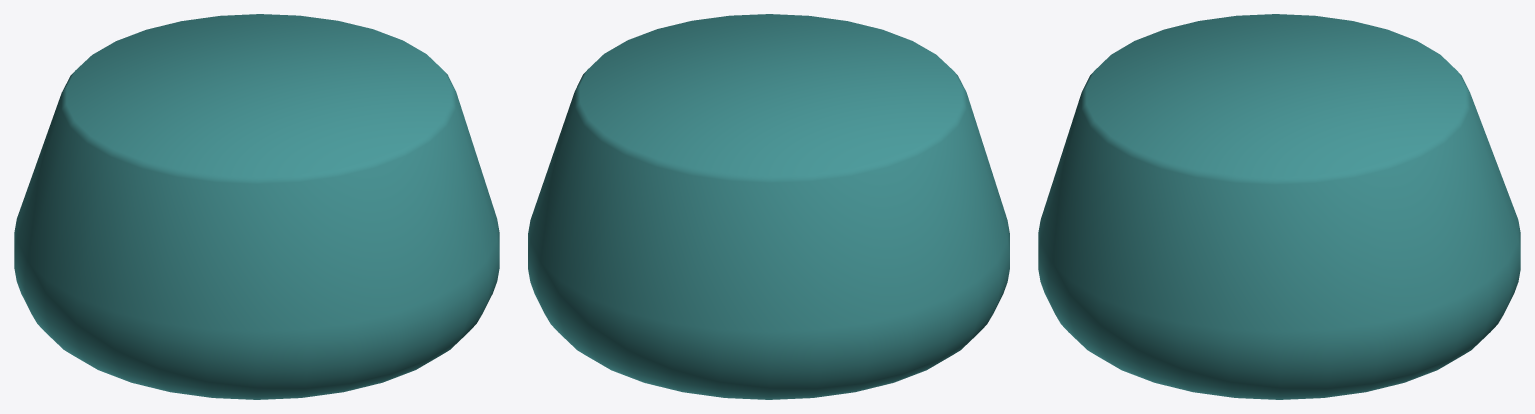
File: SM_大号锥形瓶液体_003.fbx
The picture shows the model from 3 angles, left to right: view 1: azimuth 30°, elevation 25°; view 2: azimuth 150°, elevation 25°; view 3: azimuth 270°, elevation 25°; orthographic projection.
Parts seen in each view (by area): view 1: SM_大号锥形瓶液体_003; view 2: SM_大号锥形瓶液体_003; view 3: SM_大号锥形瓶液体_003.
Boxes of the visible parts, bbox=[...] form: SM_大号锥形瓶液体_003: bbox=[14, 14, 499, 399]; SM_大号锥形瓶液体_003: bbox=[528, 14, 1009, 399]; SM_大号锥形瓶液体_003: bbox=[1038, 14, 1520, 399].
Bounding box in the file's own units: 0.2159 × 0.1083 × 0.2147.
